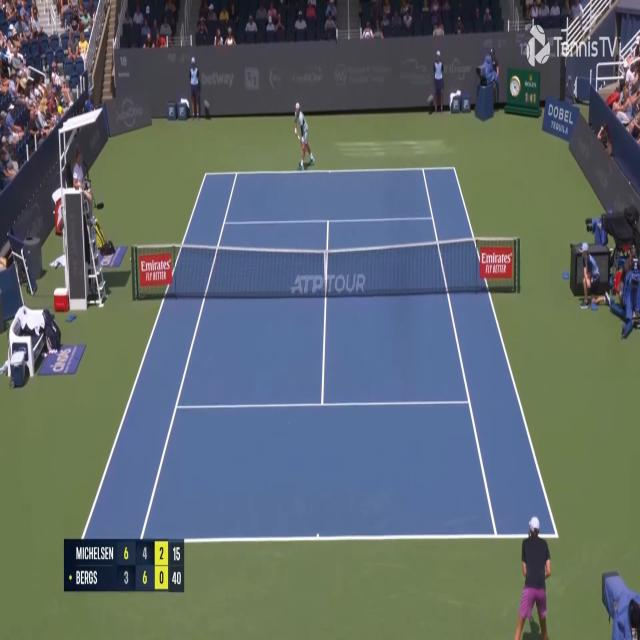tennis-player: (505, 512, 554, 639), (292, 98, 316, 172)
